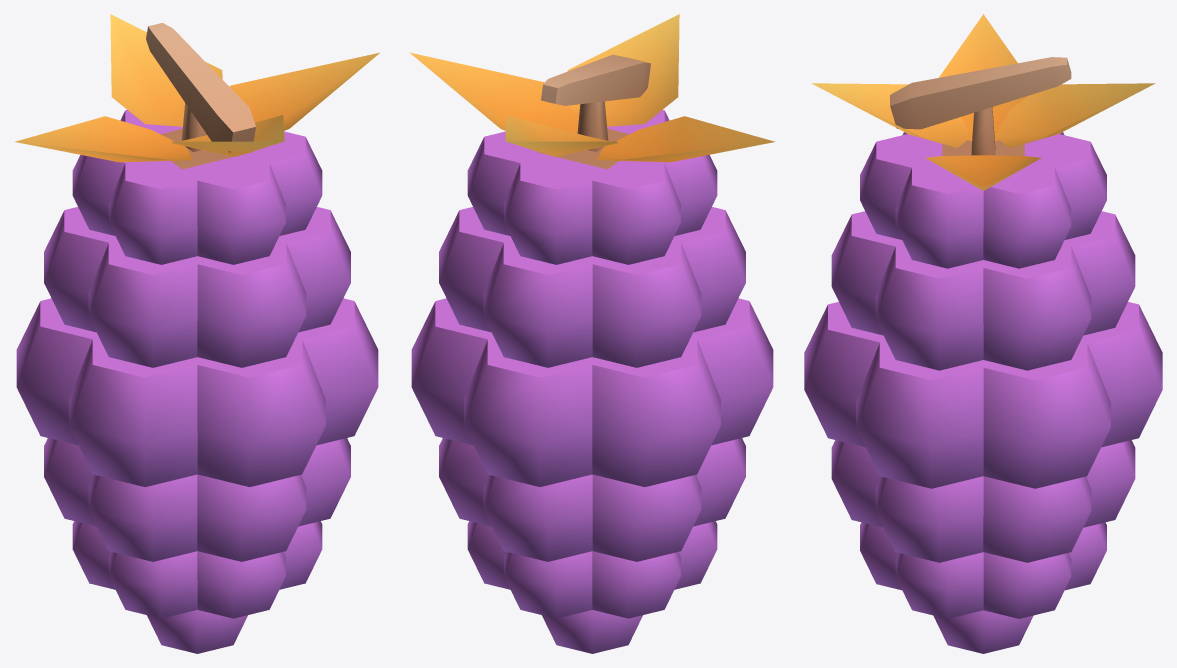
The model's file is grapes.glb.
The picture shows the model from 3 angles, left to right: view 1: azimuth 30°, elevation 25°; view 2: azimuth 150°, elevation 25°; view 3: azimuth 270°, elevation 25°; orthographic projection.
Visible parts, largest first — view 1: grapes; view 2: grapes; view 3: grapes.
Boxes of the visible parts, x1=… form: grapes: x1=14, y1=14, x2=379, y2=653; grapes: x1=410, y1=14, x2=775, y2=653; grapes: x1=804, y1=14, x2=1162, y2=653.
Bounding box in the file's own units: 0.279 × 0.4226 × 0.2386.
Materials: 1 (1 with a texture image).
